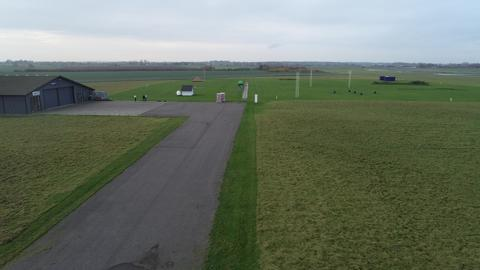RockwoolPallet: (220, 91, 226, 103)
